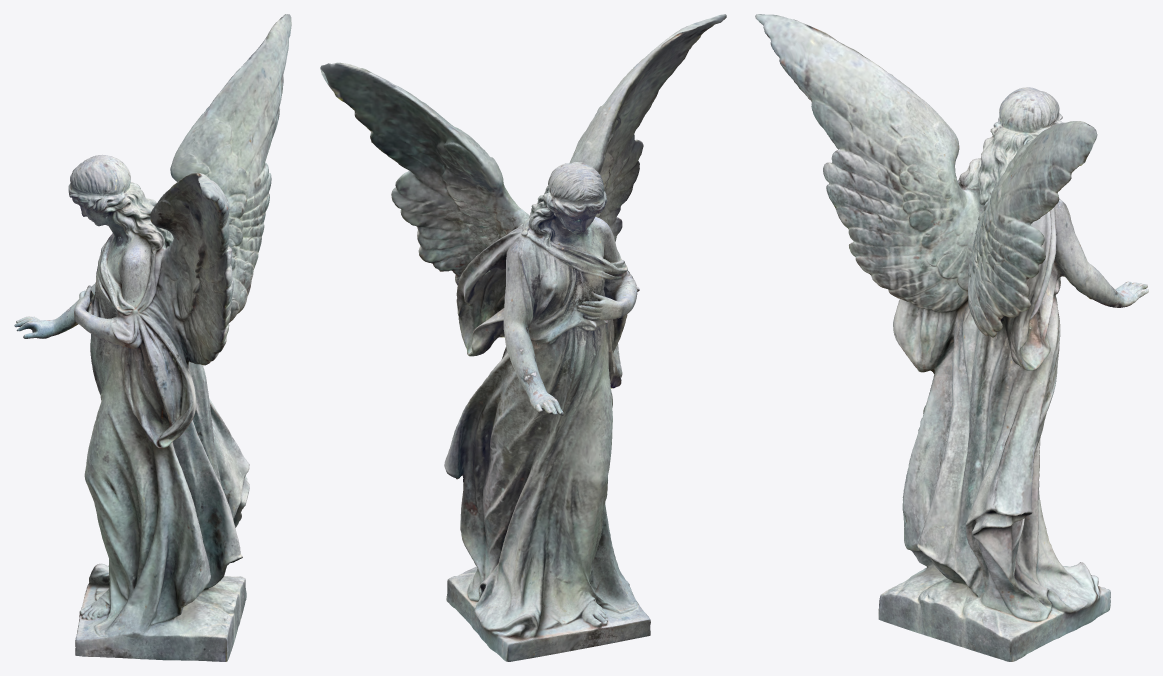
Rendered from angel_sculpture.glb.
3 views of the same model, side by side, from view 1: azimuth 30°, elevation 25°; view 2: azimuth 150°, elevation 25°; view 3: azimuth 270°, elevation 25° (orthographic). The views are drawn at different scales.
Visible parts, largest first — view 1: Object_2, Object_3; view 2: Object_3, Object_2; view 3: Object_2, Object_3.
Boxes of the visible parts, bbox=[...] form: Object_2: bbox=[25, 14, 291, 659]; Object_3: bbox=[14, 21, 277, 661]; Object_3: bbox=[320, 14, 726, 661]; Object_2: bbox=[320, 62, 665, 641]; Object_2: bbox=[799, 78, 1138, 661]; Object_3: bbox=[755, 14, 1148, 661].
Bounding box in the file's own units: 1.12 × 2.14 × 1.32.
Materials: 1 (1 with a texture image).
